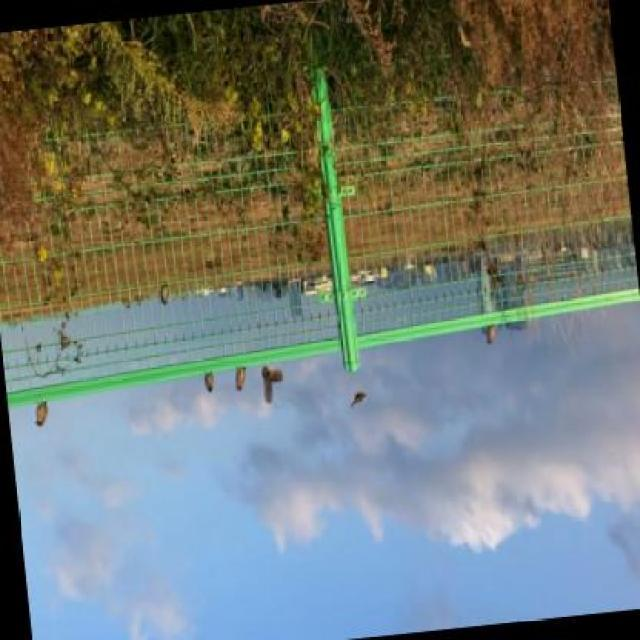Bird: (260, 363, 284, 407), (33, 401, 49, 429), (349, 391, 369, 409), (234, 367, 246, 393), (203, 370, 216, 394), (483, 325, 497, 346), (159, 283, 170, 308)
